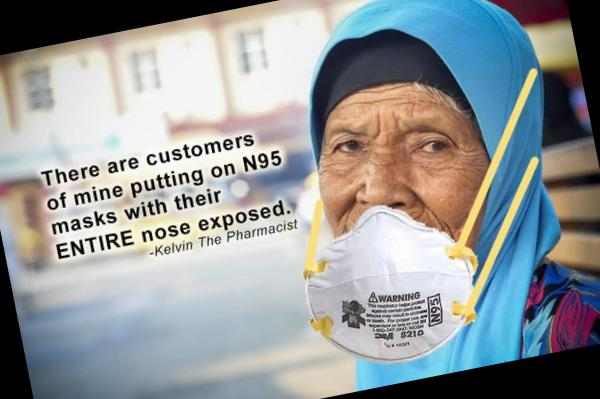mask_weared_incorrect: (305, 93, 503, 301)
